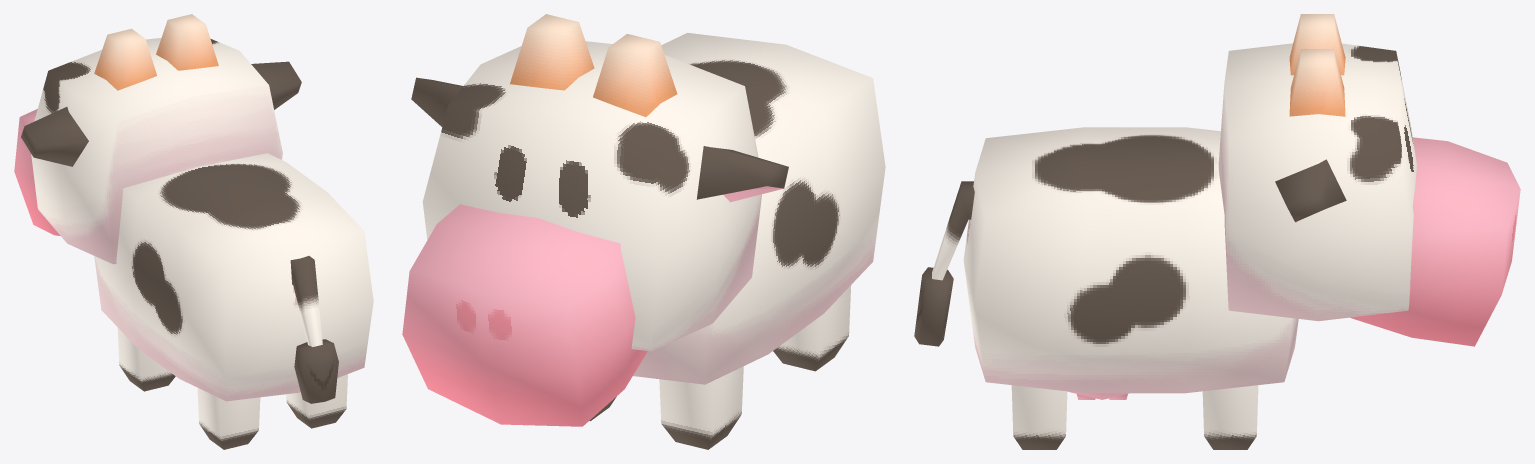
The model's file is cow_-_farm_animal_-_3december2022.glb.
3 views of the same model, side by side, from view 1: azimuth 30°, elevation 25°; view 2: azimuth 150°, elevation 25°; view 3: azimuth 270°, elevation 25° (orthographic). The views are drawn at different scales.
Parts seen in each view (by area): view 1: cow; view 2: cow; view 3: cow.
Part boxes in pixels (<box>): cow: <box>14,14,373,449</box>; cow: <box>402,14,885,449</box>; cow: <box>914,14,1520,449</box>.
Size of the model in its own units: 1.37 by 1.56 by 2.27.
1 material, 1 textured.
